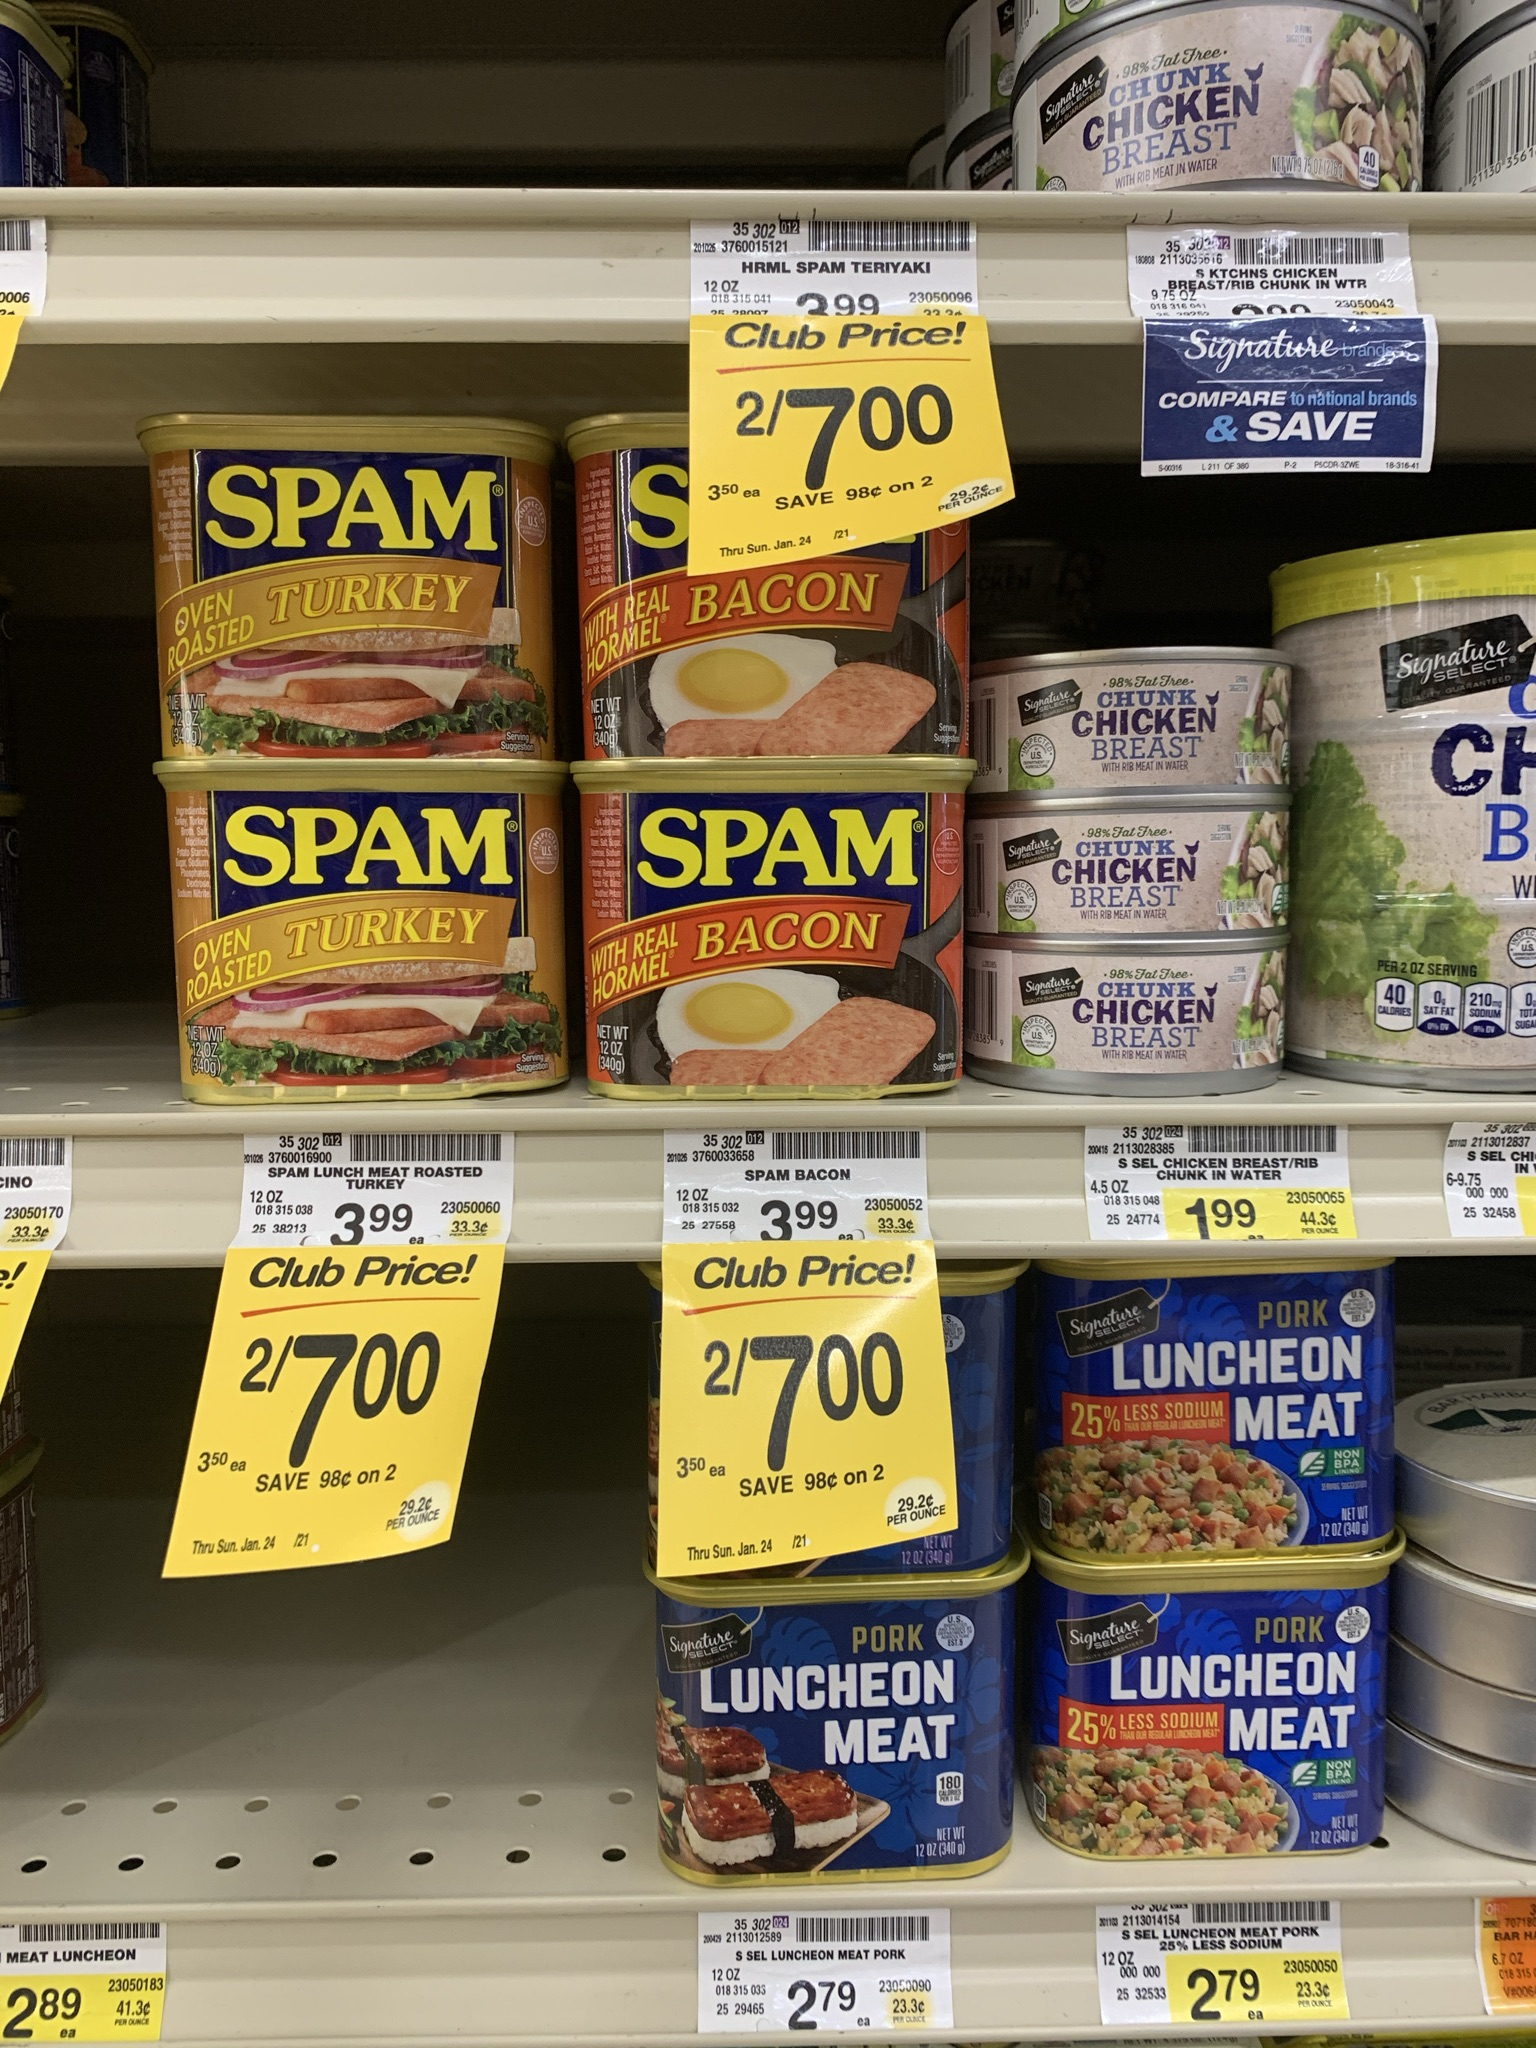can: (142, 411, 557, 760), (158, 758, 566, 1105), (582, 763, 970, 1101), (653, 1580, 1013, 1877), (1042, 1271, 1392, 1559), (1046, 1563, 1388, 1858), (1013, 5, 1433, 194), (979, 642, 1300, 811), (971, 942, 1292, 1092), (975, 805, 1296, 939)
